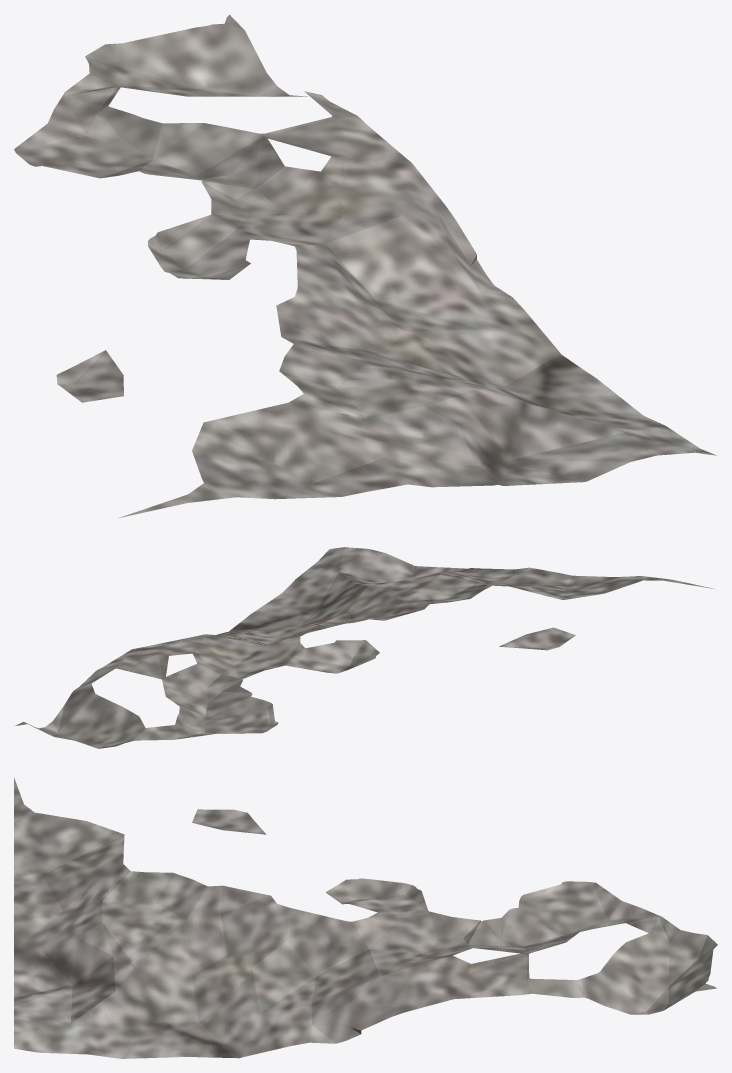
The picture shows the model from 3 angles, top to bottom: view 1: azimuth 30°, elevation 25°; view 2: azimuth 150°, elevation 25°; view 3: azimuth 270°, elevation 25°; orthographic projection. The views are drawn at different scales.
Size of the model in its own units: 0.5032 by 0.0787 by 0.7089.
1 material, 1 textured.
